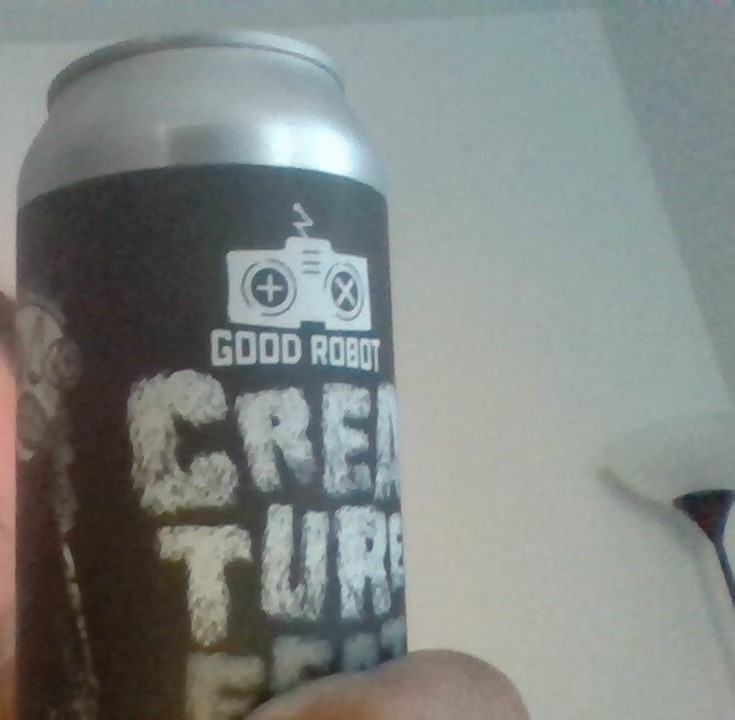Good Robot: (220, 201, 376, 333)
